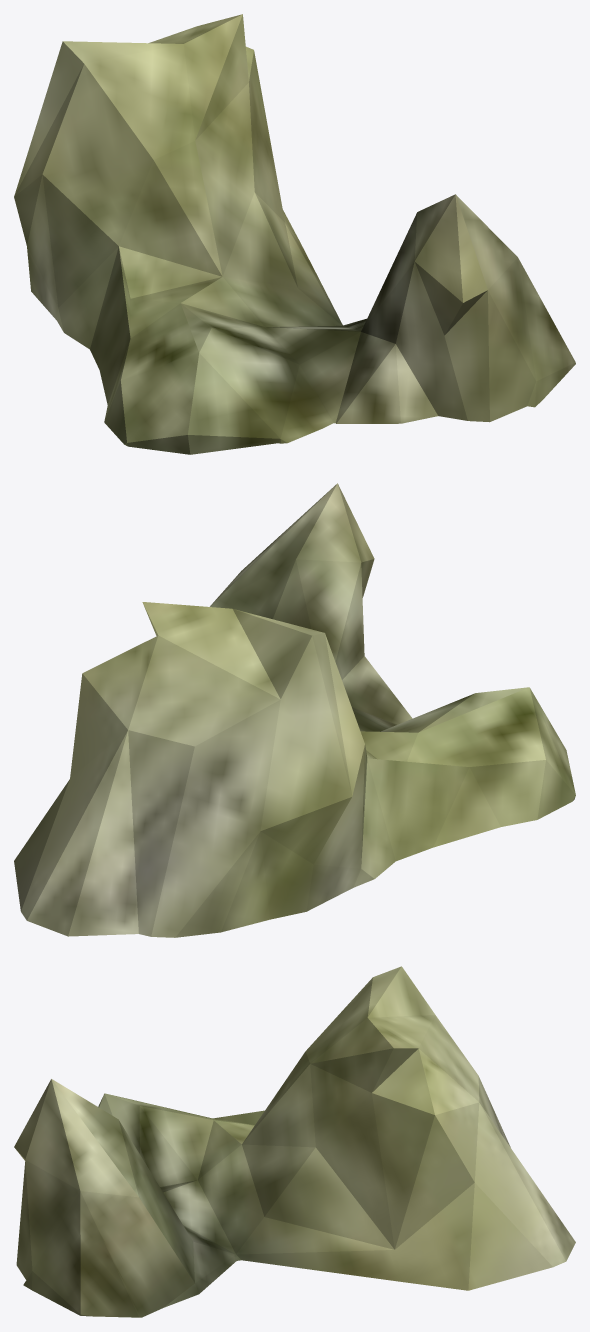
The picture shows the model from 3 angles, top to bottom: view 1: azimuth 30°, elevation 25°; view 2: azimuth 150°, elevation 25°; view 3: azimuth 270°, elevation 25°; orthographic projection. The views are drawn at different scales.
Bounding box in the file's own units: 1.09 × 0.6394 × 1.49.
Materials: 1 (1 with a texture image).
